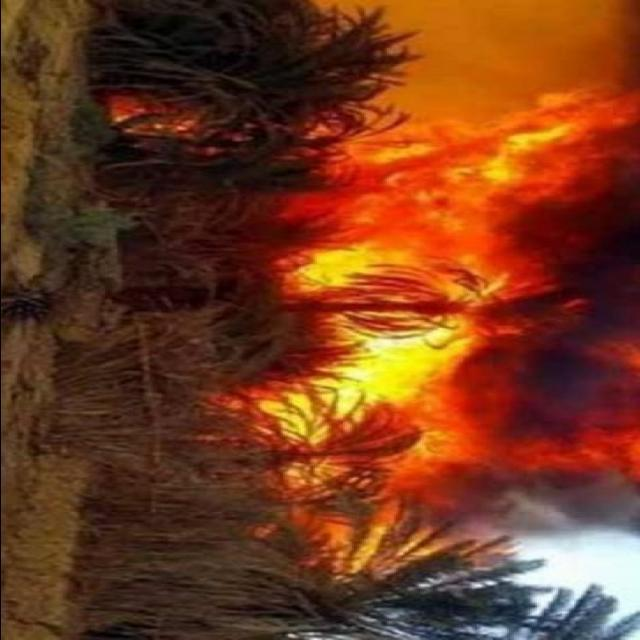Fire: (264, 98, 626, 580)
